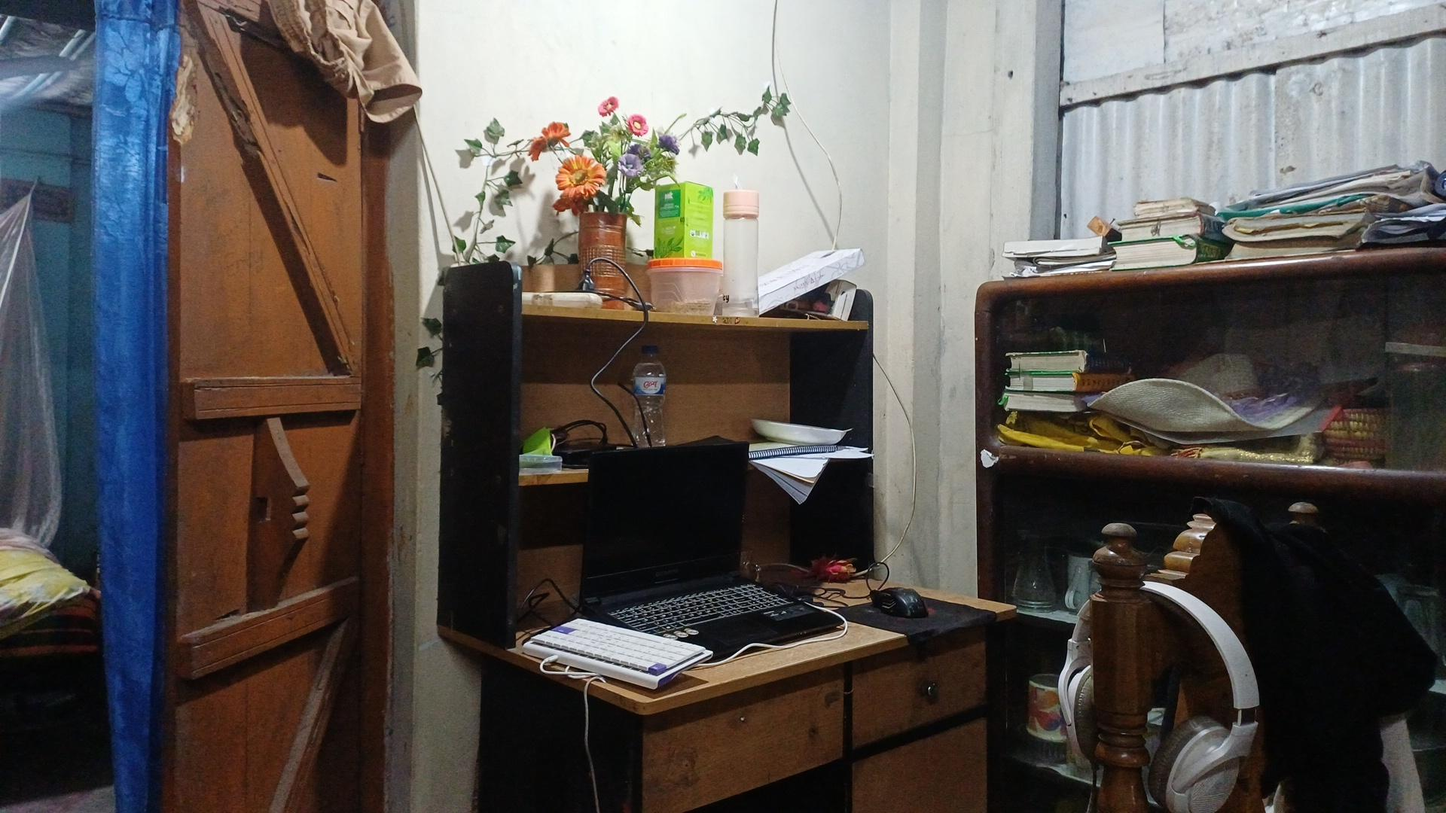Book: (1109, 176, 1216, 280), (1226, 205, 1366, 284), (1001, 335, 1101, 438)
Bottle: (723, 179, 765, 326), (639, 356, 673, 453)
Box: (647, 171, 713, 262), (757, 282, 881, 324)
Door: (92, 13, 435, 784)
Drawer: (831, 669, 1028, 759)
Food: (645, 265, 720, 320)
Keyboard: (529, 608, 715, 713)
Laptop: (574, 438, 823, 653)
Mouse: (868, 577, 935, 626)
Plant: (506, 82, 635, 312)
Plate: (752, 401, 862, 453)
